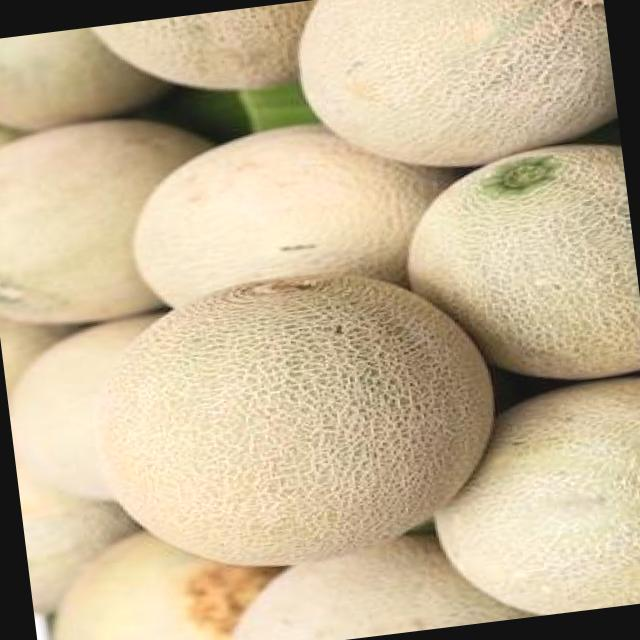cantaloupe: (82, 253, 513, 586)
